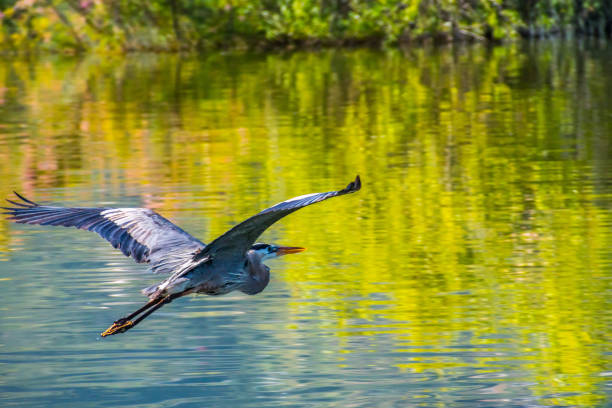Bird: (2, 175, 381, 339)
